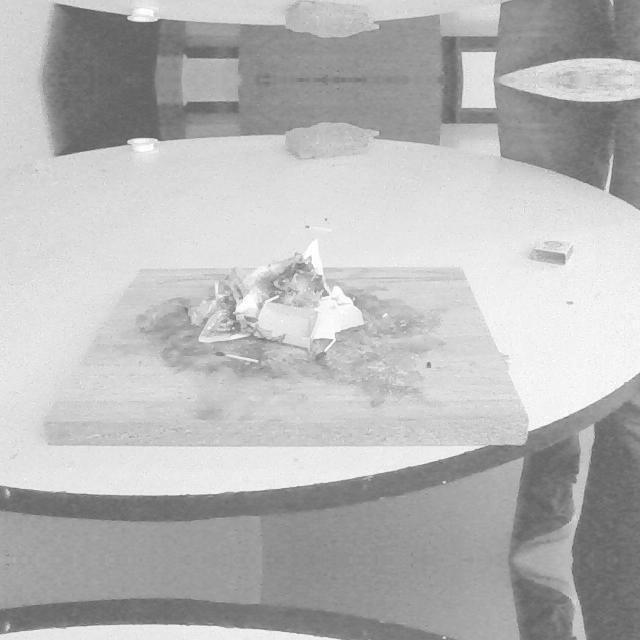smoke: (302, 238, 353, 304), (230, 264, 268, 314)
